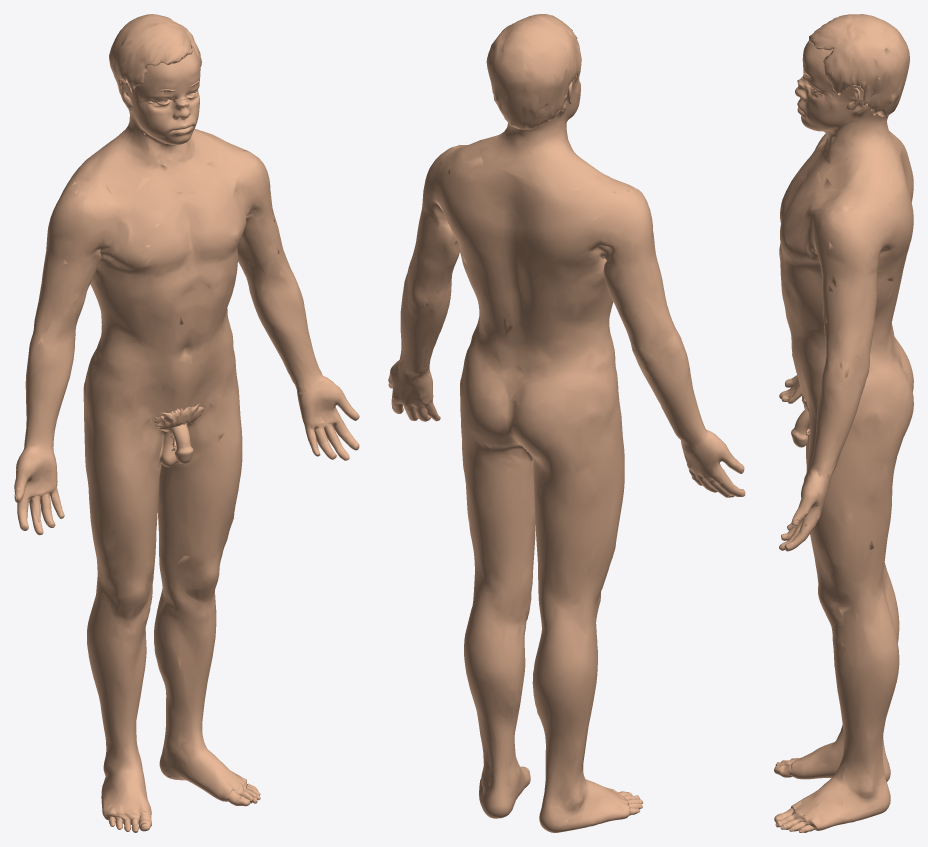
File: integumentary.glb
The picture shows the model from 3 angles, left to right: view 1: azimuth 30°, elevation 25°; view 2: azimuth 150°, elevation 25°; view 3: azimuth 270°, elevation 25°; orthographic projection. The views are drawn at different scales.
Visible parts, largest first — view 1: FJ2810, FJ2813, FJ2815; view 2: FJ2810, FJ2813; view 3: FJ2810, FJ2813.
Boxes of the visible parts, x1=… form: FJ2810: x1=14, y1=44, x2=359, y2=832; FJ2813: x1=109, y1=14, x2=201, y2=103; FJ2815: x1=154, y1=402, x2=204, y2=431; FJ2810: x1=388, y1=42, x2=745, y2=832; FJ2813: x1=486, y1=14, x2=581, y2=129; FJ2810: x1=774, y1=41, x2=913, y2=832; FJ2813: x1=809, y1=14, x2=909, y2=116.
Bounding box in the file's own units: 0.807 × 1.73 × 0.2809.
